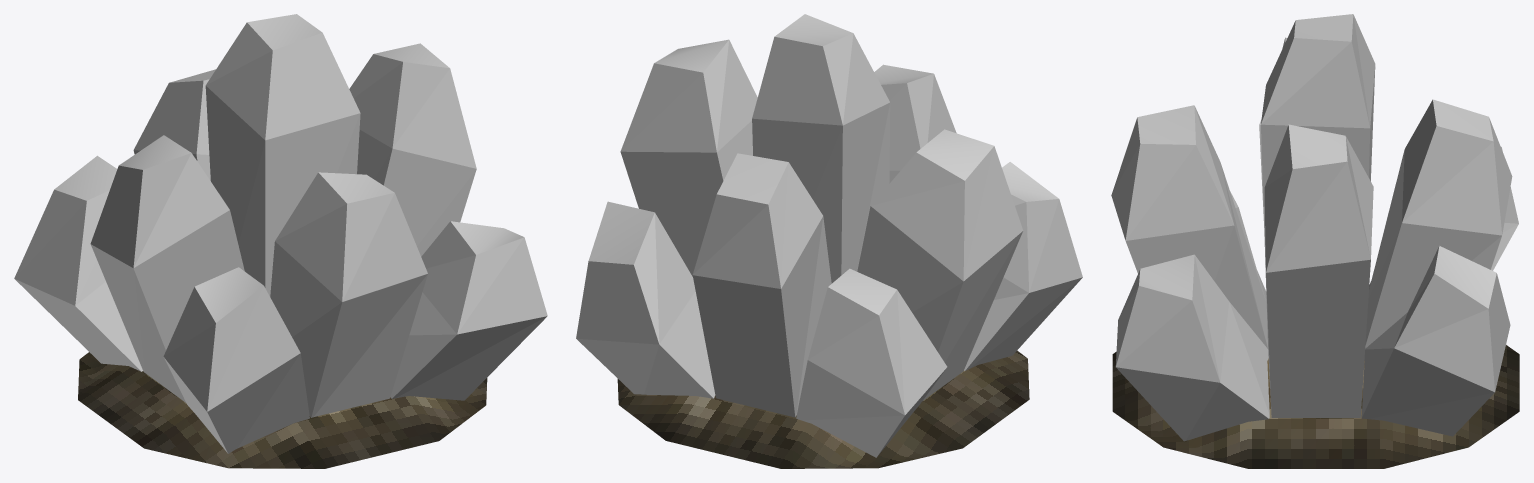
The model's file is strange_crystal.obj.
3 views of the same model, side by side, from view 1: azimuth 30°, elevation 25°; view 2: azimuth 150°, elevation 25°; view 3: azimuth 270°, elevation 25° (orthographic). The views are drawn at different scales.
Visible parts, largest first — view 1: vcrystal, vcrystal.001; view 2: vcrystal, vcrystal.001; view 3: vcrystal, vcrystal.001.
Part boxes in pixels (left/top/right/bottom): vcrystal: left=14, top=14, right=547, bottom=453; vcrystal.001: left=78, top=352, right=487, bottom=468; vcrystal: left=576, top=14, right=1082, bottom=457; vcrystal.001: left=617, top=350, right=1029, bottom=468; vcrystal: left=1111, top=14, right=1518, bottom=441; vcrystal.001: left=1112, top=345, right=1519, bottom=468.
Bounding box in the file's own units: 0.7633 × 0.7343 × 0.7523.
